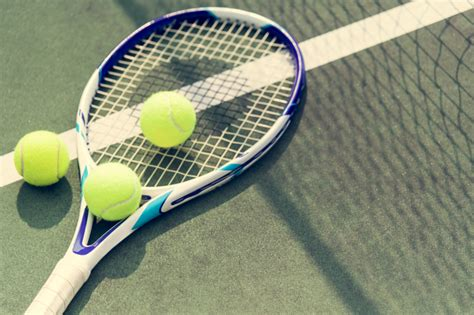tennis_ball: (84, 162, 142, 221), (139, 91, 196, 148), (13, 130, 70, 186)
